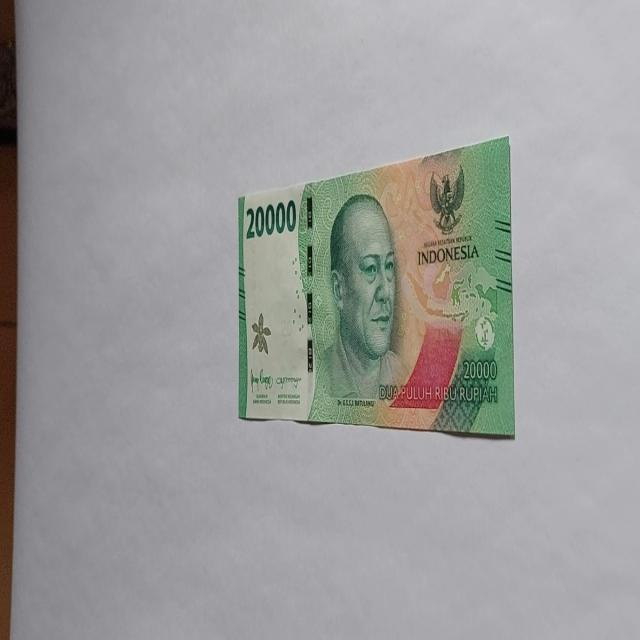dua puluh ribu rupiah: (236, 134, 514, 438), (308, 190, 412, 423)
